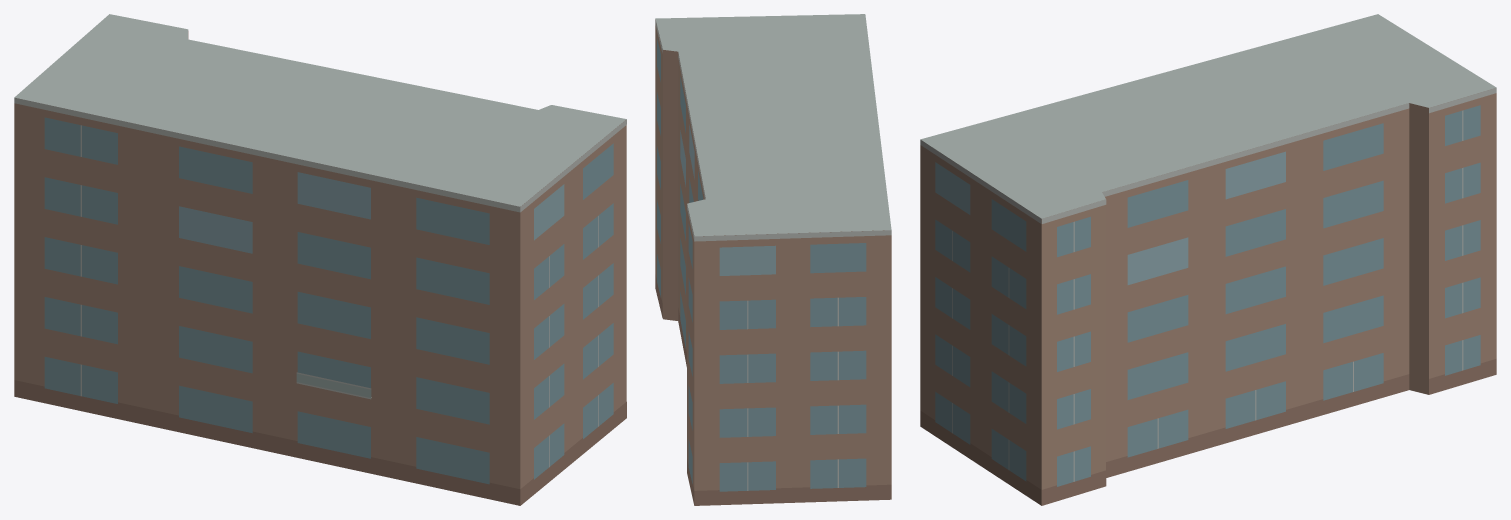
The model's file is survey-upis-32997739.glb.
The picture shows the model from 3 angles, left to right: view 1: azimuth 30°, elevation 25°; view 2: azimuth 150°, elevation 25°; view 3: azimuth 270°, elevation 25°; orthographic projection. The views are drawn at different scales.
Visible parts, largest first — view 1: survey-upis-32997739.tmp; view 2: survey-upis-32997739.tmp; view 3: survey-upis-32997739.tmp.
Part boxes in pixels (x1,y1,x2,y2): survey-upis-32997739.tmp: [14, 14, 626, 505]; survey-upis-32997739.tmp: [655, 14, 891, 505]; survey-upis-32997739.tmp: [920, 14, 1496, 505].
Bounding box in the file's own units: 19.67 × 12.85 × 23.39.
